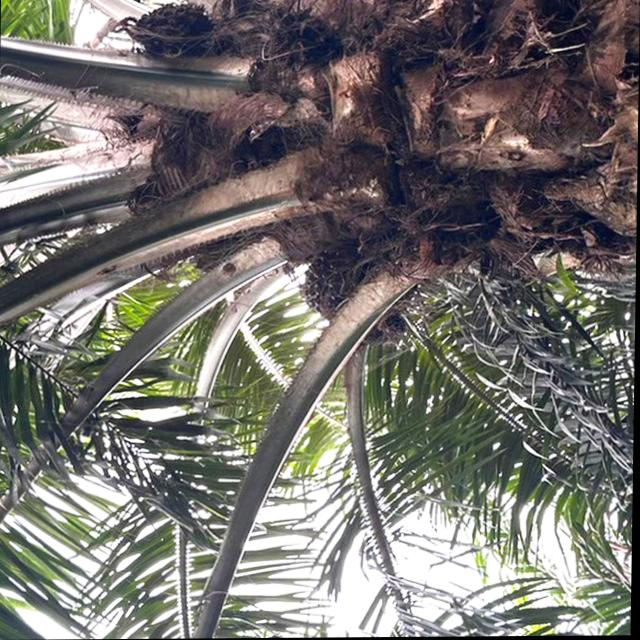almost: (298, 245, 410, 346)
